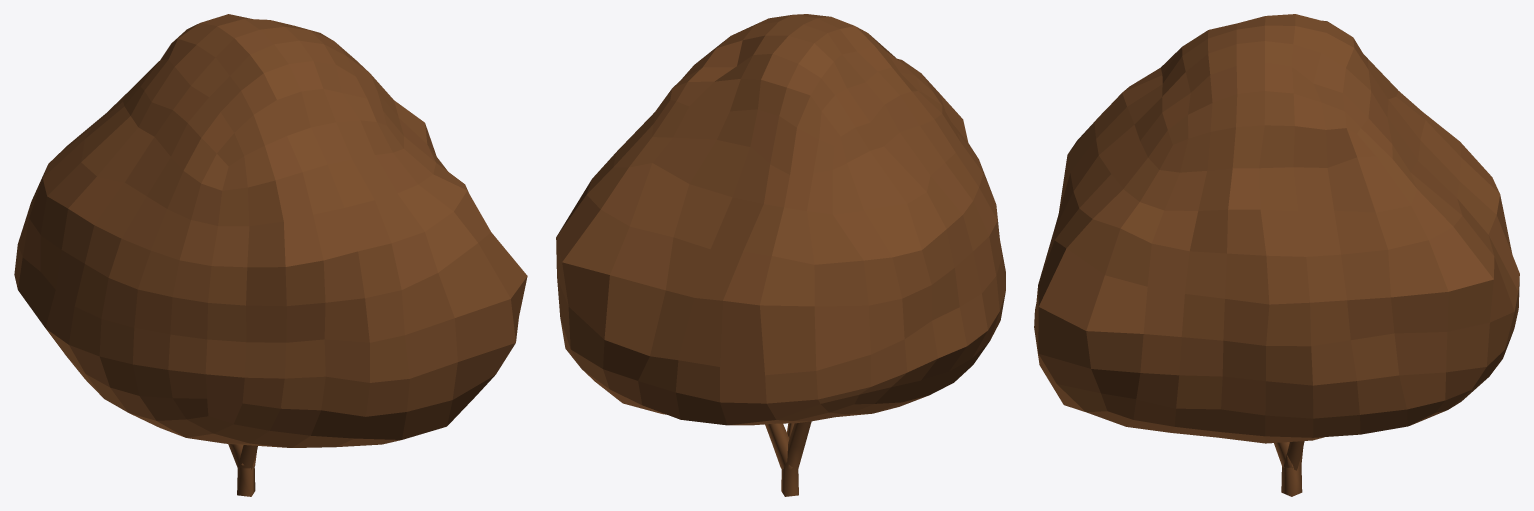
Rendered from Maple tree 1.fbx.
3 renders of one model, left to right at view 1: azimuth 30°, elevation 25°; view 2: azimuth 150°, elevation 25°; view 3: azimuth 270°, elevation 25°, orthographic. The views are drawn at different scales.
Visible parts, largest first — view 1: Cube; view 2: Cube; view 3: Cube.
Boxes of the visible parts, x1,y1,x2,y2 form: Cube: (14,14,527,496); Cube: (556,14,1005,496); Cube: (1034,14,1519,496).
Size of the model in its own units: 659 by 765 by 722.
